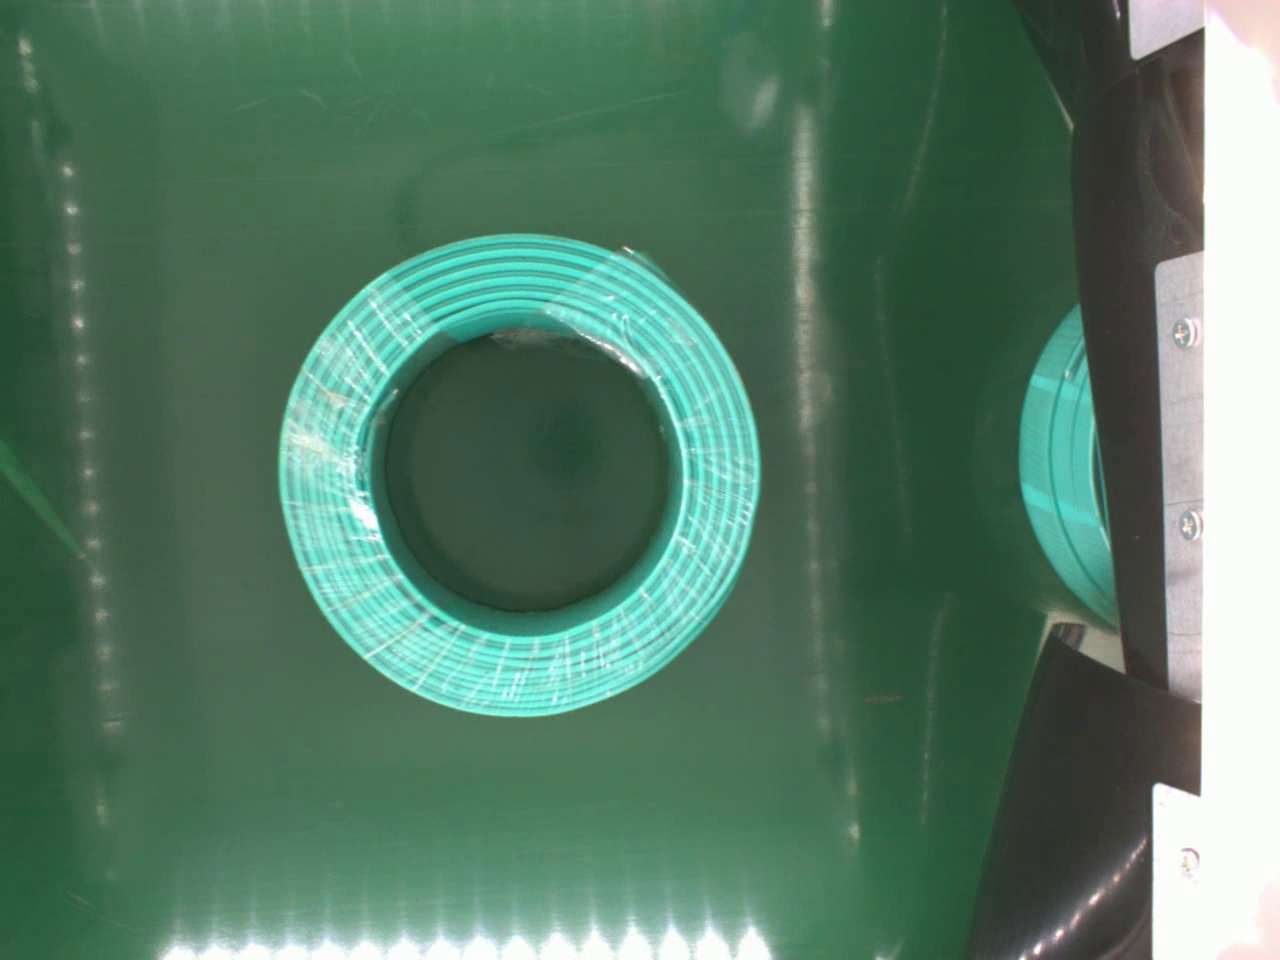green: (269, 229, 765, 722)
